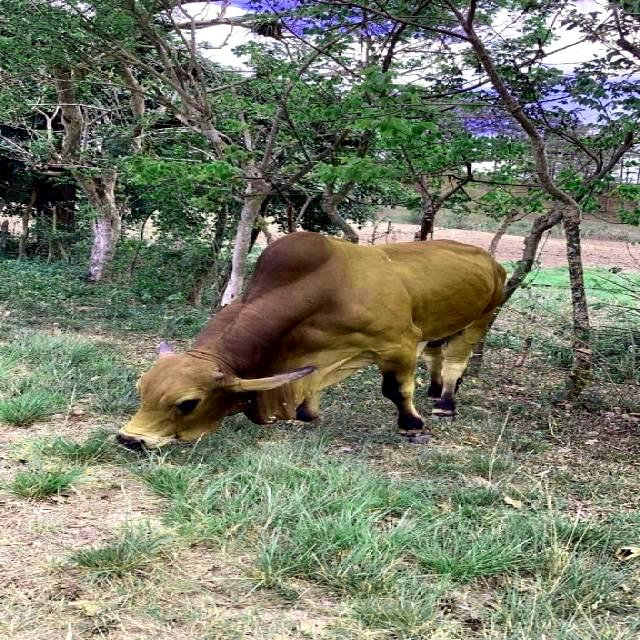COW: (118, 232, 506, 448)
